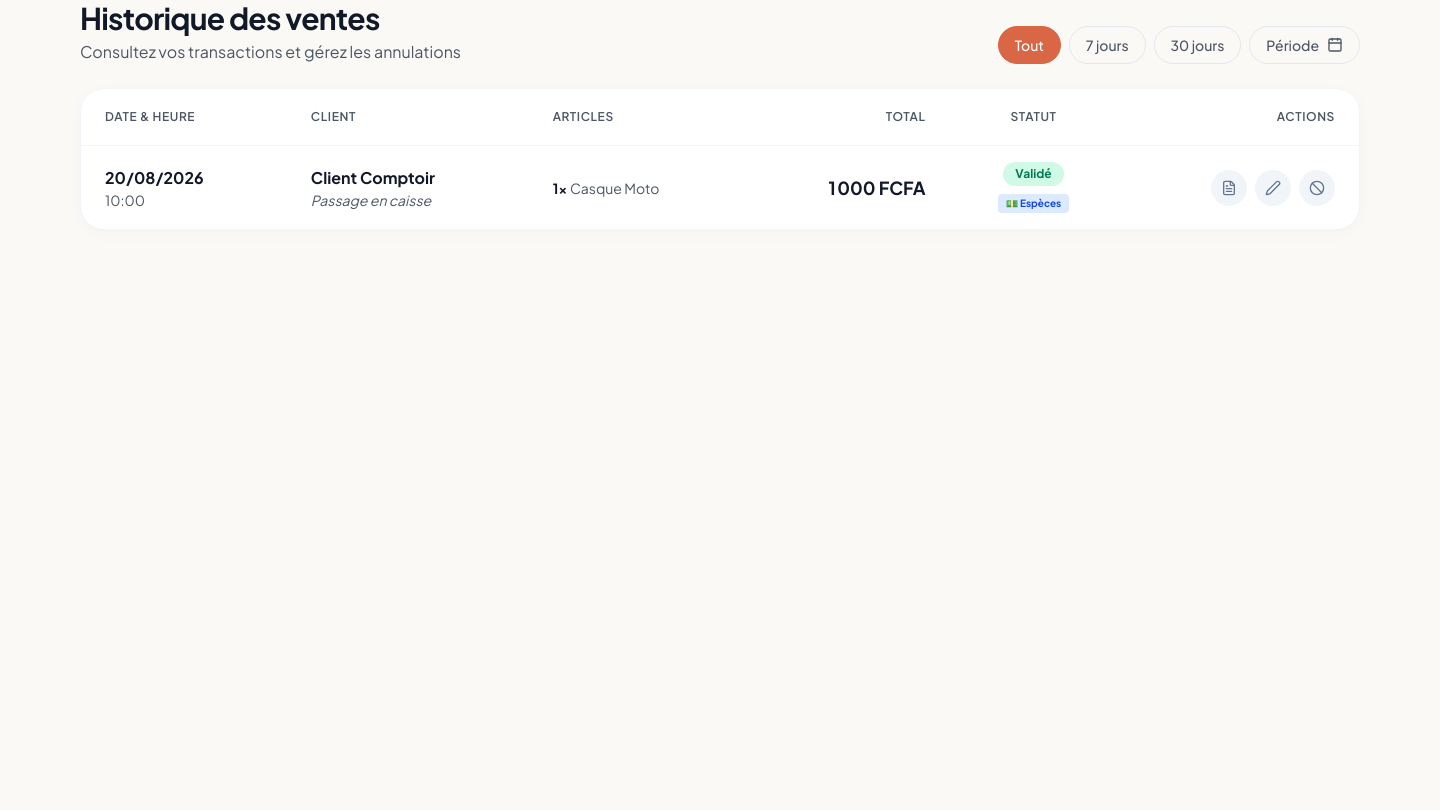
Test case: HistoriqueVentes cancel/modify › cancels a sale through the atomic cancel_sale RPC
The image size is (1440, 810).
Check: the text "Casque Moto" is shown, box [570,178,659,196]
Click the button titled "Annuler Vente": (1317, 188) [1299,170,1335,206]
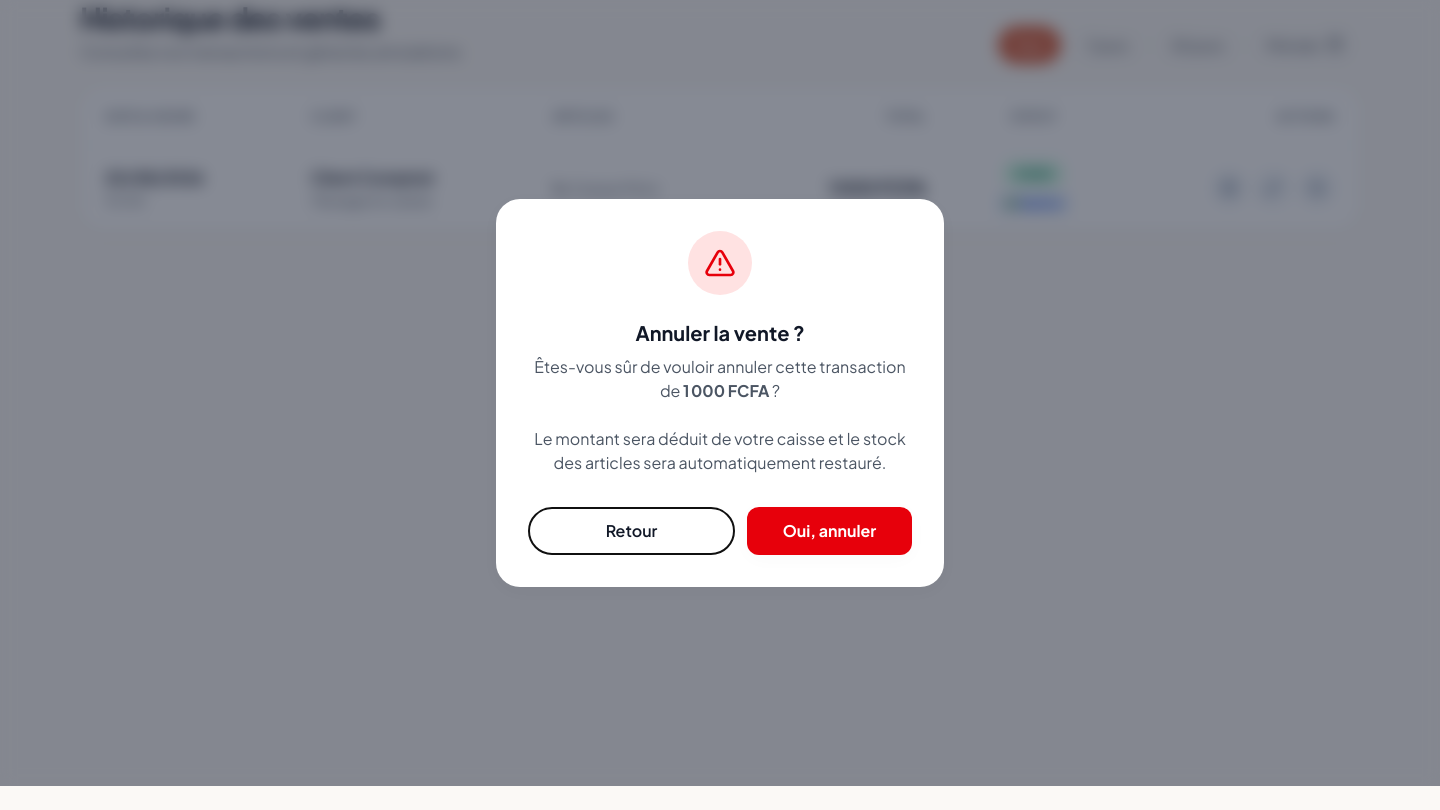
Click the button "Oui, annuler": (830, 531) [747,507,912,555]
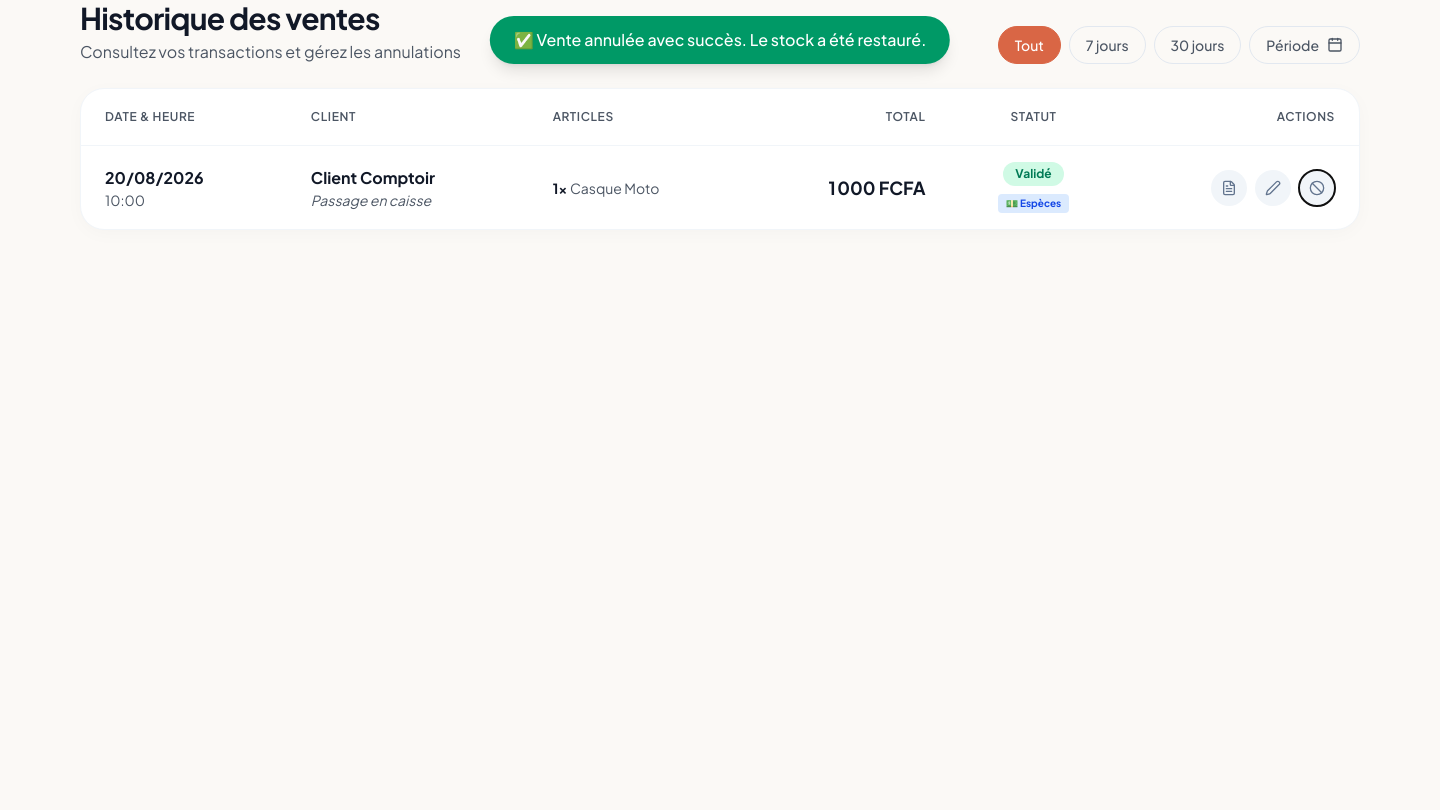
Check: the text "✅ Vente annulée avec succès. Le stock a été restauré." is shown, box [490,16,950,64]
